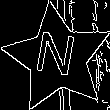N_S: (33, 30, 82, 86)
